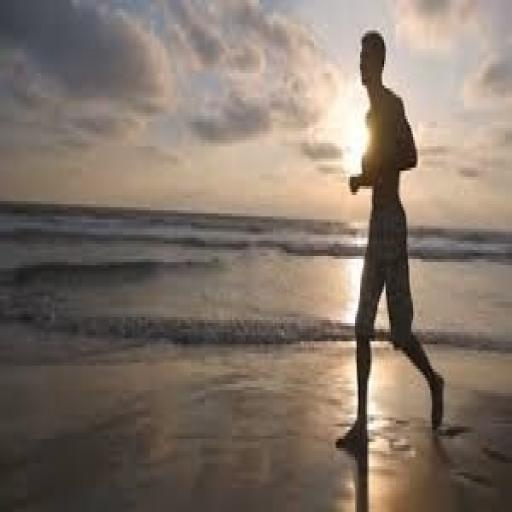running: (333, 28, 449, 457)
